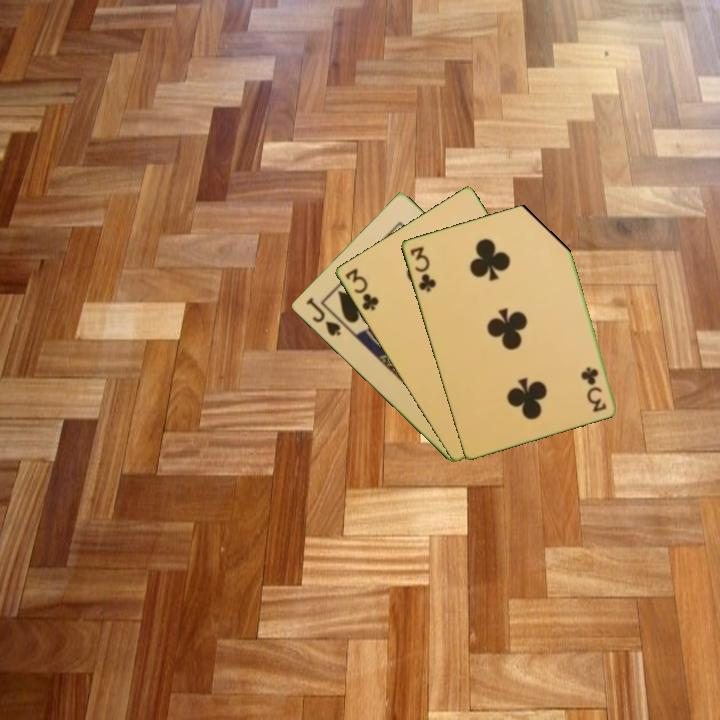3c: (341, 264, 381, 314), (406, 243, 438, 295), (580, 363, 609, 414)
Js: (302, 294, 343, 339)
